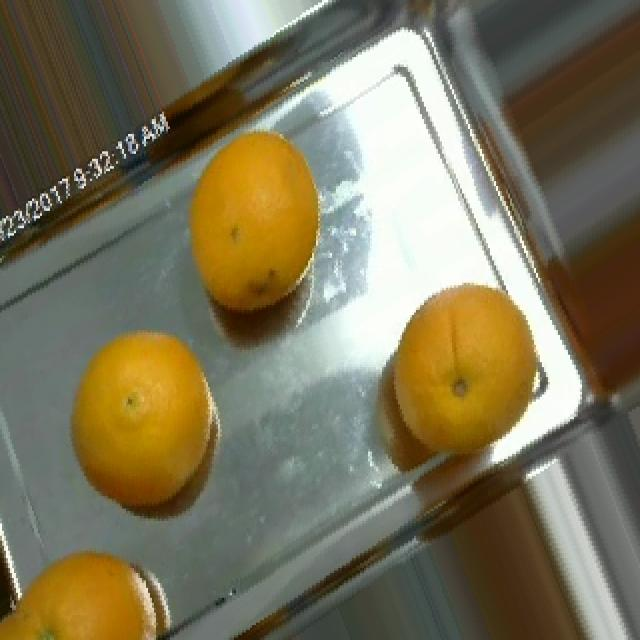Fruit: (160, 122, 356, 352), (0, 528, 184, 640)
